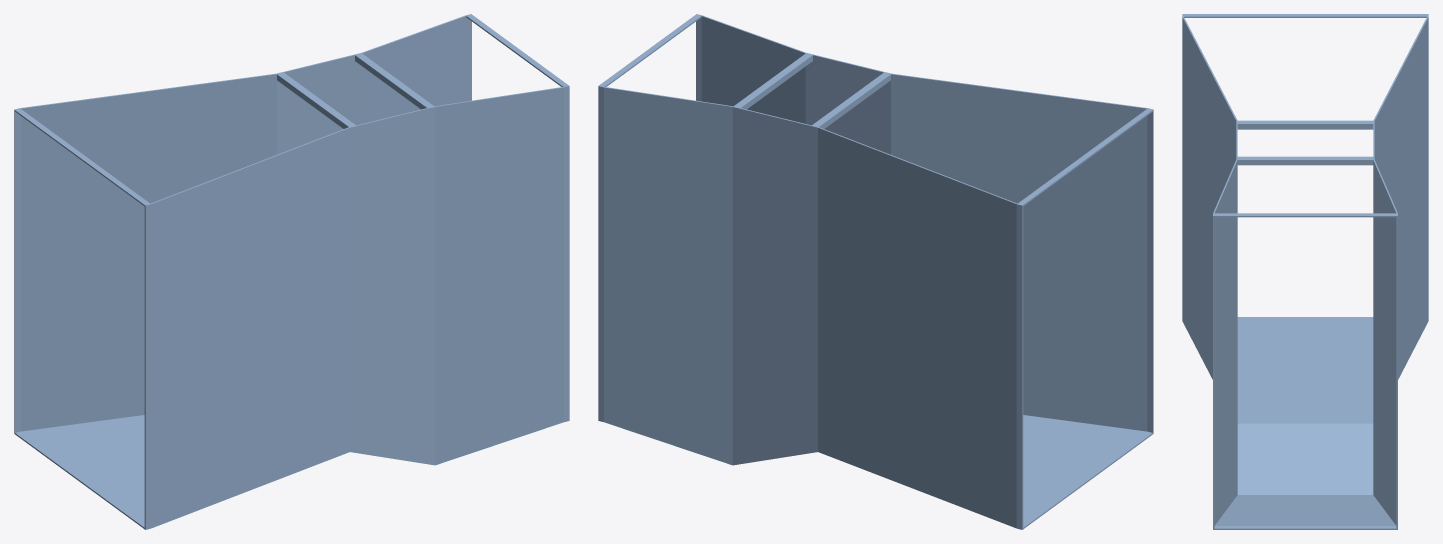
The model's file is parshall-flume.gltf.
3 views of the same model, side by side, from view 1: azimuth 30°, elevation 25°; view 2: azimuth 150°, elevation 25°; view 3: azimuth 270°, elevation 25° (orthographic). The views are drawn at different scales.
Parts seen in each view (by area): view 1: 拉伸 [302603], 连接的实心几何图形 [302720]; view 2: 拉伸 [302603], 连接的实心几何图形 [302720]; view 3: 连接的实心几何图形 [302720], 拉伸 [302603], 融合 [302723].
Boxes of the visible parts, left/top/right/bottom form: 拉伸 [302603]: left=20, top=73, right=349, bottom=528; 连接的实心几何图形 [302720]: left=14, top=14, right=569, bottom=529; 拉伸 [302603]: left=818, top=73, right=1147, bottom=528; 连接的实心几何图形 [302720]: left=598, top=14, right=1153, bottom=529; 连接的实心几何图形 [302720]: left=1182, top=14, right=1428, bottom=529; 拉伸 [302603]: left=1182, top=16, right=1428, bottom=379; 融合 [302723]: left=1215, top=495, right=1395, bottom=525.
Size of the model in its own units: 3.1 by 2.41 by 1.6.
